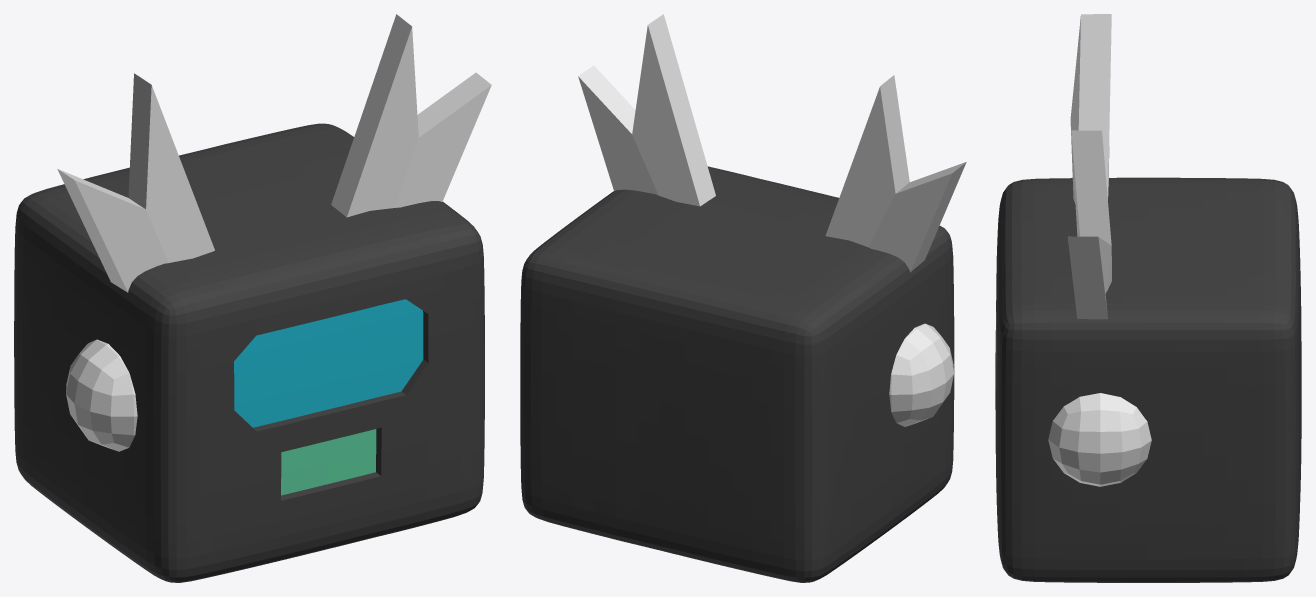
The model's file is RobotHead.fbx.
3 views of the same model, side by side, from view 1: azimuth 30°, elevation 25°; view 2: azimuth 150°, elevation 25°; view 3: azimuth 270°, elevation 25° (orthographic). The views are drawn at different scales.
Parts seen in each view (by area): view 1: Head, Antlers, Right_Ear; view 2: Head, Antlers, Right_Ear; view 3: Head, Antlers, Left_Ear.
Part boxes in pixels (x1,y1,x2,y2): Head: [14, 123, 484, 582]; Antlers: [57, 14, 491, 292]; Right_Ear: [66, 339, 137, 451]; Head: [520, 166, 954, 582]; Antlers: [578, 14, 966, 272]; Right_Ear: [889, 323, 953, 426]; Head: [995, 177, 1301, 582]; Antlers: [1067, 14, 1111, 319]; Left_Ear: [1048, 393, 1151, 486].
Size of the model in its own units: 2.88 by 3.18 by 1.99.
